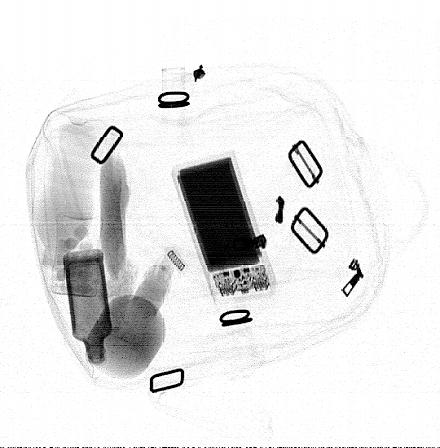Powerbank: (170, 150, 277, 305)
